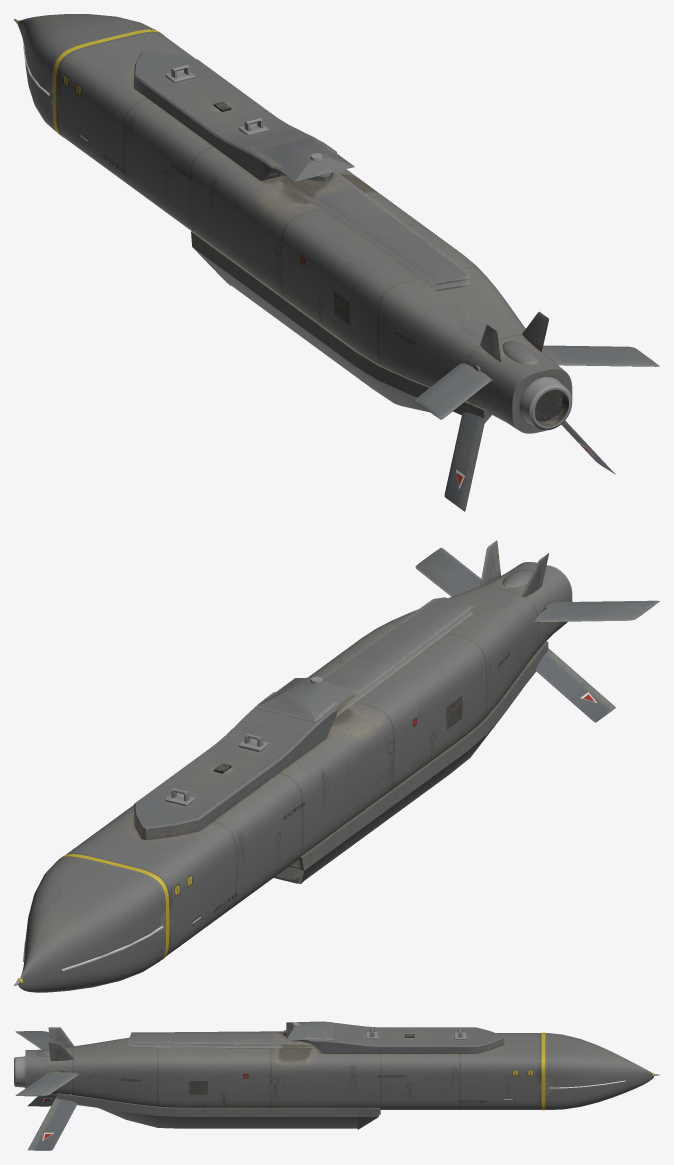
File: storm.glb
3 views of the same model, one above another, from view 1: azimuth 30°, elevation 25°; view 2: azimuth 150°, elevation 25°; view 3: azimuth 270°, elevation 25° (orthographic). The views are drawn at different scales.
Visible parts, largest first — view 1: body, body_spine, wing_l, nose_cap, fin_3, fin_4, fin_1, wing_r; view 2: body, nose_cap, body_spine, wing_l, fin_3, fin_4, fin_1, wing_r; view 3: body, body_spine, nose_cap, wing_l, fin_2, fin_1, wing_r, fin_4, fin_3.
Boxes of the visible parts, left/top/right/bottom form: body: left=52, top=29, right=572, bottom=433; body_spine: left=134, top=50, right=354, bottom=181; wing_l: left=281, top=171, right=471, bottom=284; nose_cap: left=14, top=14, right=156, bottom=131; fin_3: left=444, top=402, right=486, bottom=511; fin_4: left=415, top=363, right=492, bottom=419; fin_1: left=542, top=345, right=659, bottom=366; wing_r: left=280, top=178, right=471, bottom=291; body: left=60, top=540, right=572, bottom=961; nose_cap: left=14, top=857, right=165, bottom=992; body_spine: left=134, top=676, right=354, bottom=839; wing_l: left=322, top=597, right=473, bottom=709; fin_3: left=535, top=648, right=615, bottom=722; fin_4: left=534, top=600, right=659, bottom=622; fin_1: left=415, top=548, right=481, bottom=596; wing_r: left=336, top=611, right=473, bottom=716; body: left=14, top=1027, right=545, bottom=1129; body_spine: left=283, top=1021, right=504, bottom=1053; nose_cap: left=546, top=1033, right=659, bottom=1109; wing_l: left=128, top=1031, right=311, bottom=1044; fin_2: left=28, top=1094, right=77, bottom=1150; fin_1: left=15, top=1069, right=78, bottom=1096; wing_r: left=128, top=1042, right=312, bottom=1048; fin_4: left=15, top=1031, right=49, bottom=1049; fin_3: left=28, top=1095, right=56, bottom=1106.
Bounding box in the file's own units: 1.21 × 0.9157 × 5.12.
Materials: 2 (2 with a texture image).
